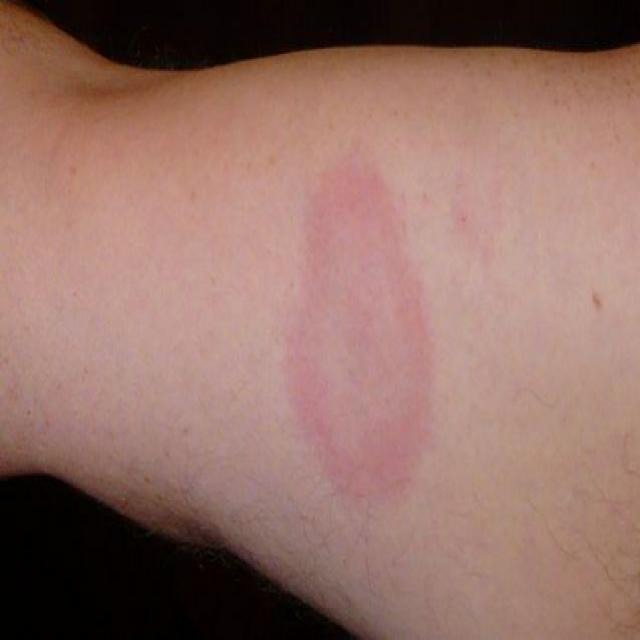Ringworm: (268, 133, 470, 530)
